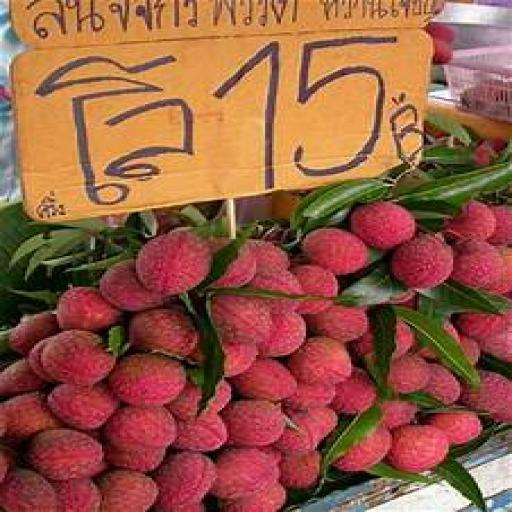lychee: (136, 229, 212, 295), (109, 354, 185, 406), (41, 332, 115, 385), (28, 429, 104, 479), (155, 451, 215, 511), (211, 448, 278, 500), (100, 260, 165, 312), (130, 308, 199, 356), (48, 384, 117, 430), (392, 236, 453, 288), (302, 227, 369, 274), (352, 202, 416, 250), (223, 400, 285, 447), (275, 408, 337, 455), (105, 407, 176, 448), (288, 337, 351, 383), (211, 296, 271, 344), (388, 425, 448, 472), (57, 287, 120, 331), (3, 393, 61, 440), (232, 359, 296, 401), (334, 427, 391, 472), (451, 241, 505, 288), (98, 470, 158, 511), (0, 470, 58, 511), (306, 306, 369, 343), (463, 371, 511, 414), (445, 200, 496, 240), (331, 369, 376, 414), (173, 414, 226, 452), (259, 313, 305, 356), (10, 313, 58, 354), (211, 245, 255, 288), (429, 412, 482, 445), (223, 483, 285, 511), (0, 359, 45, 397), (422, 364, 462, 406), (105, 444, 165, 472), (388, 355, 430, 394), (279, 451, 321, 489), (53, 478, 101, 511), (456, 313, 511, 341), (293, 265, 339, 298), (284, 383, 335, 411), (247, 241, 289, 274), (166, 383, 201, 421), (250, 272, 303, 295), (28, 337, 54, 382), (223, 344, 258, 377), (481, 325, 511, 363), (381, 400, 419, 430), (488, 248, 511, 295), (488, 207, 511, 245), (392, 321, 414, 358), (460, 337, 480, 365), (0, 449, 11, 482), (417, 344, 439, 360), (0, 405, 6, 438)
